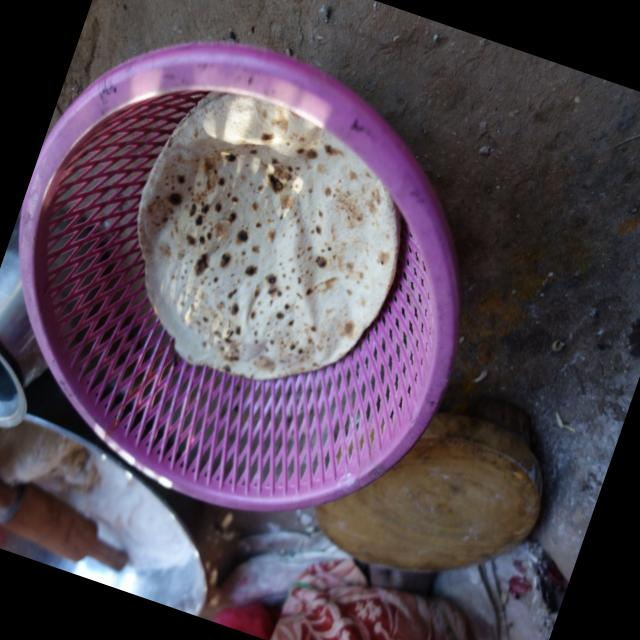roti: (140, 97, 395, 377)
